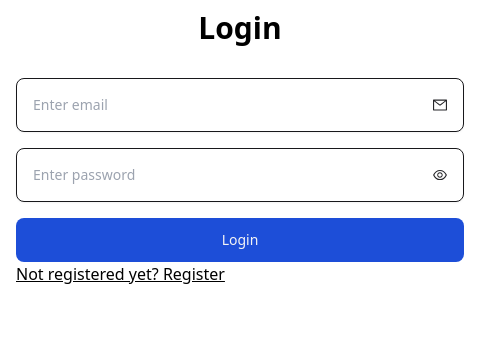
Test: Step 1 › should able invalid login render message error
The image size is (481, 341).
Click the button at (240, 240), box [16,218,464,262]
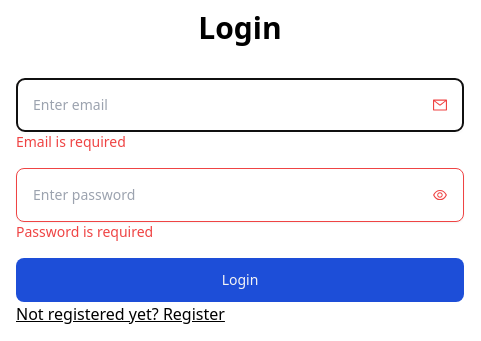
Expected: the button titled "email invalid" is shown, [16,258,464,302]
Expected: the message titled "password invalid" is shown, [16,222,153,241]
